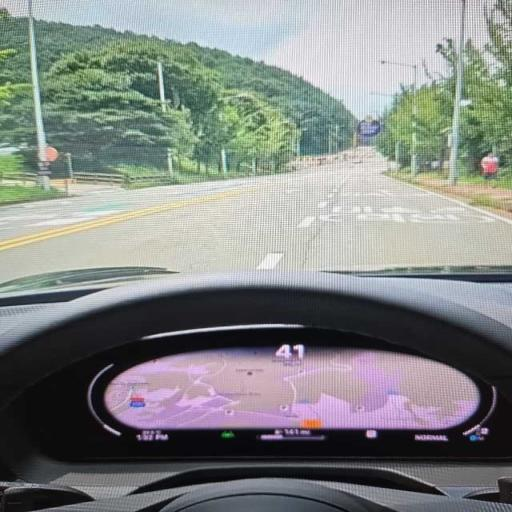car: (0, 269, 511, 510)
lane: (0, 155, 511, 280), (305, 164, 511, 270), (0, 177, 262, 240)
person: (481, 153, 499, 180)
